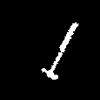half_double_crochet: (42, 23, 77, 78)
